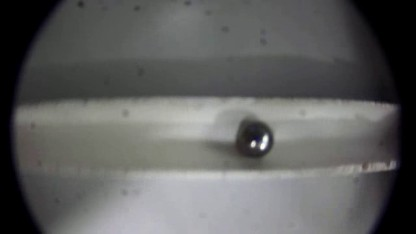gangzhu: (235, 117, 276, 157)
